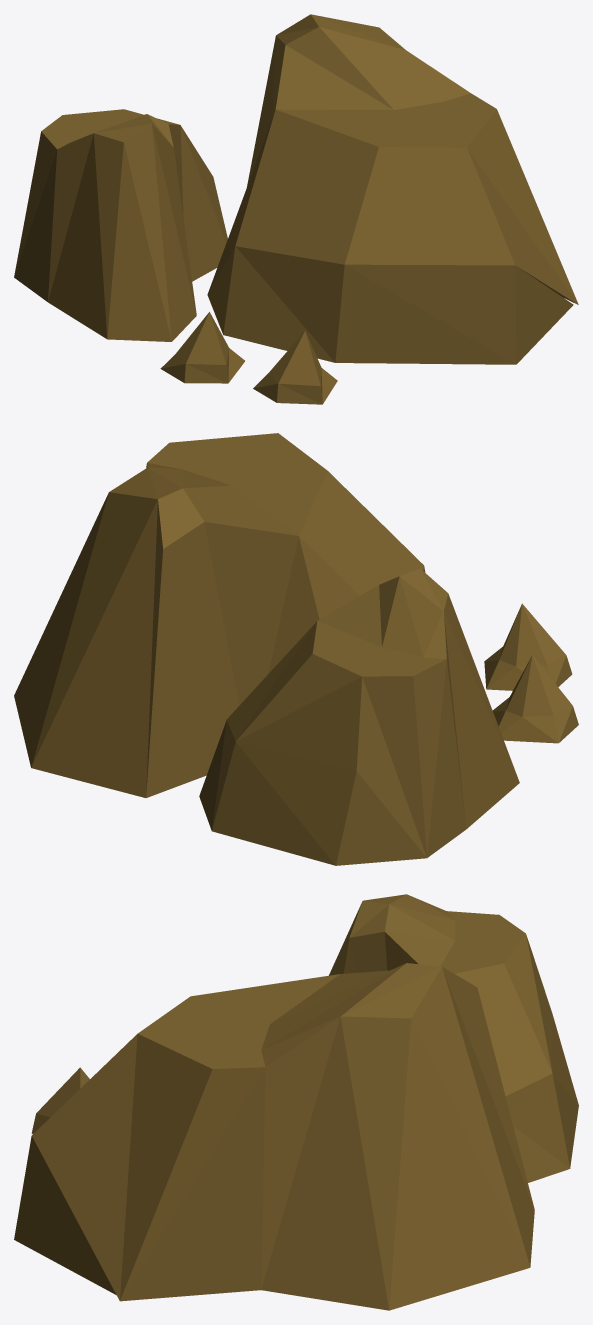
File: obj_rock_2_0.obj
3 views of the same model, one above another, from view 1: azimuth 30°, elevation 25°; view 2: azimuth 150°, elevation 25°; view 3: azimuth 270°, elevation 25° (orthographic). The views are drawn at different scales.
Size of the model in its own units: 0.9844 by 0.5078 by 1.
